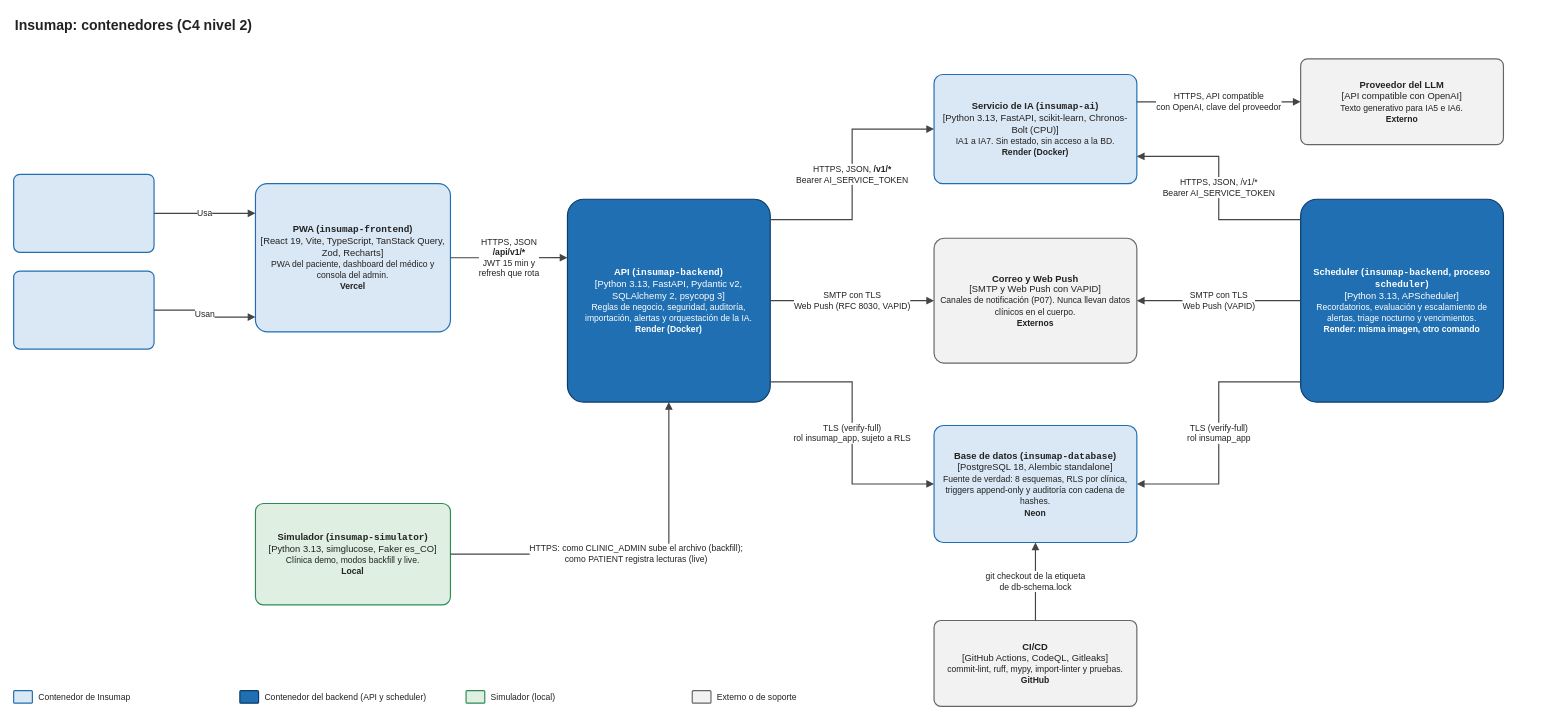
Image size: 1556x720. Some labels were removed from this diagram. The shapes that lost their labels are listed below. From the top down, each one's centre as x and y in pixels, then its label:
At pixel 83 213: "Paciente [Persona] PWA mobile first".
At pixel 83 309: "Médico y administradores [Personas] Dashboard y consola web".
